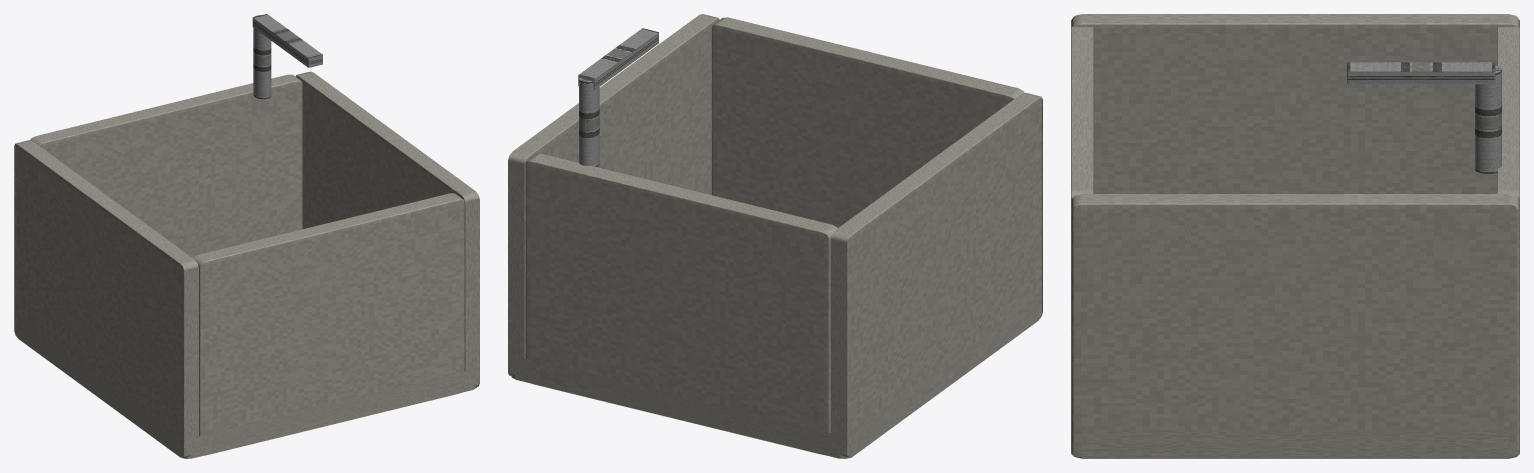
File: mop-sink.glb
3 renders of one model, left to right at view 1: azimuth 30°, elevation 25°; view 2: azimuth 150°, elevation 25°; view 3: azimuth 270°, elevation 25°, orthographic. The views are drawn at different scales.
Visible parts, largest first — view 1: edge (×2), side (×2), bottom, spout, spout-post; view 2: edge (×2), side (×2), bottom, spout, spout-post; view 3: side (×2), bottom, edge (×2), spout, spout-post.
Boxes of the visible parts, x1,y1,x2,y2 form: edge (×2): (30,74,465,455); side (×2): (14,71,479,458); bottom: (18,318,476,458); spout: (252,14,322,67); spout-post: (253,15,271,99); edge (×2): (524,17,1024,454); side (×2): (508,14,1042,458); bottom: (511,297,1038,458); spout: (578,28,658,90); spout-post: (579,78,599,166); side (×2): (1071,14,1519,458); bottom: (1071,431,1519,458); edge (×2): (1071,26,1519,200); spout: (1347,62,1495,84); spout-post: (1475,65,1501,173).
Size of the model in its own units: 0.62 by 0.5402 by 0.62.
2 materials, 2 textured.
